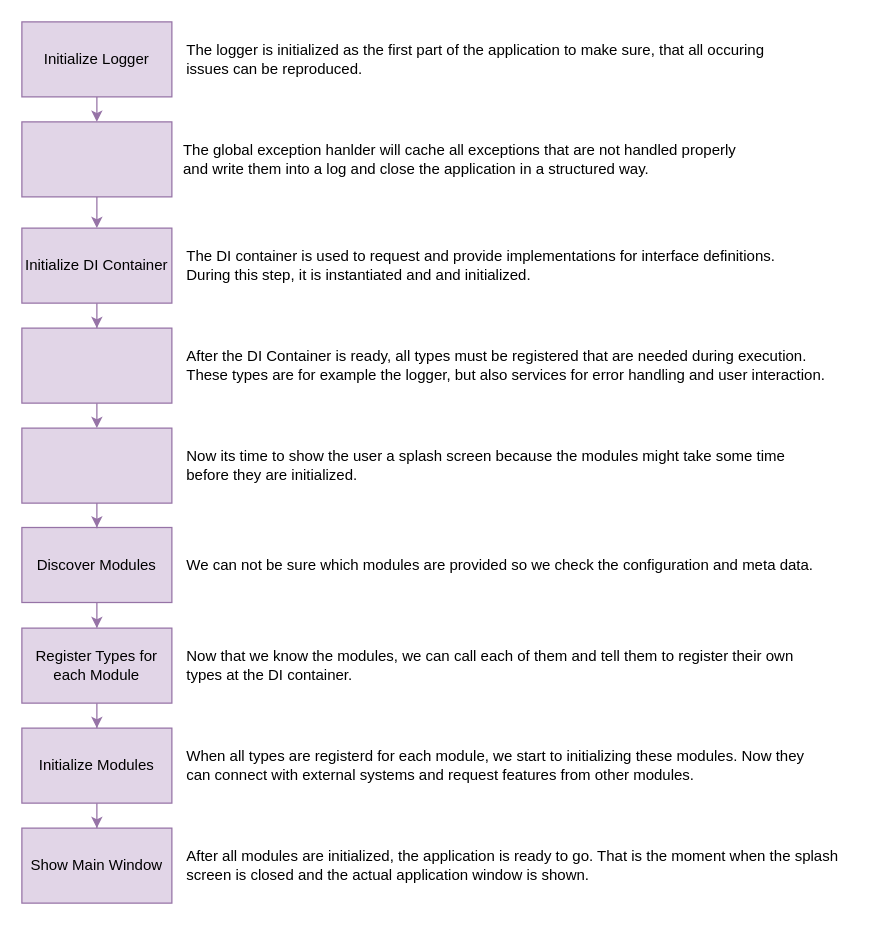
Image size: 881x925. Some labels were removed from this diagram. The box of each missing label's shape, as (x1, y1, x2, y2) in pixels:
Register Base Types: (21, 327, 172, 403)
Register Global Exception Handler: (21, 121, 172, 197)
Show Splashscreen: (21, 427, 172, 503)
